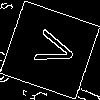V: (24, 25, 78, 72)
